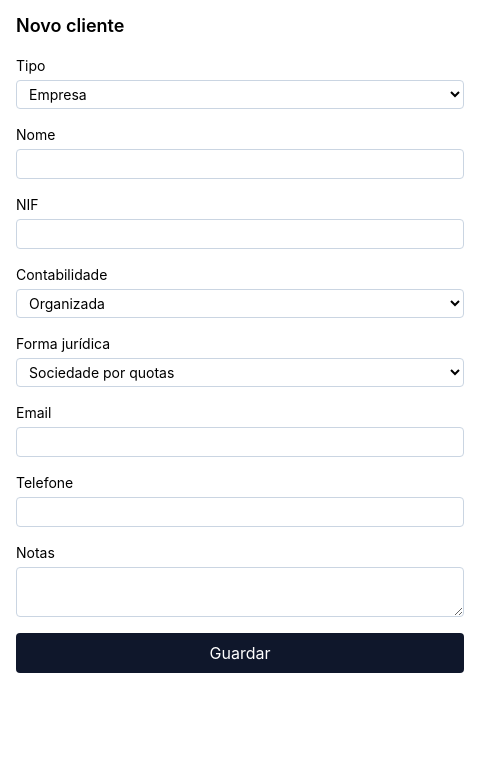
Test case: ClientFormPage › shows the personal fields for an individual and hides the legal form
Select "Pessoa singular" in the dropdown labelled "Tipo" at coordinates (240, 94), box [16,80,464,109]
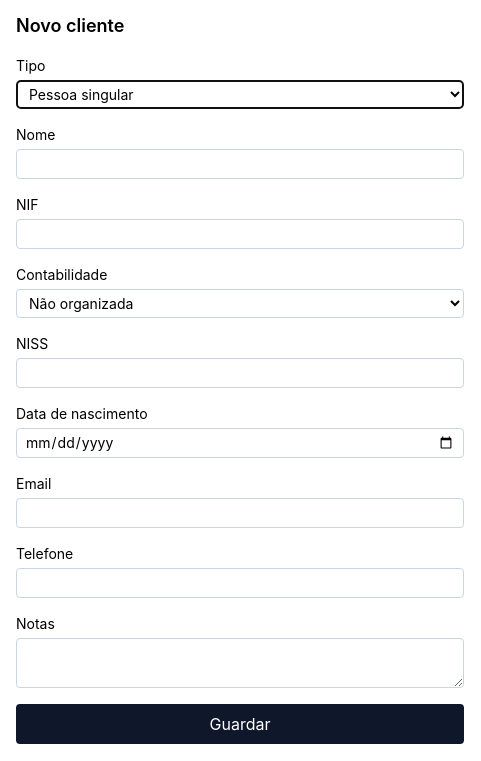
Result: the field labelled "NISS" is shown at [16,358,464,388]
Result: the label labelled "Forma jurídica" is gone
